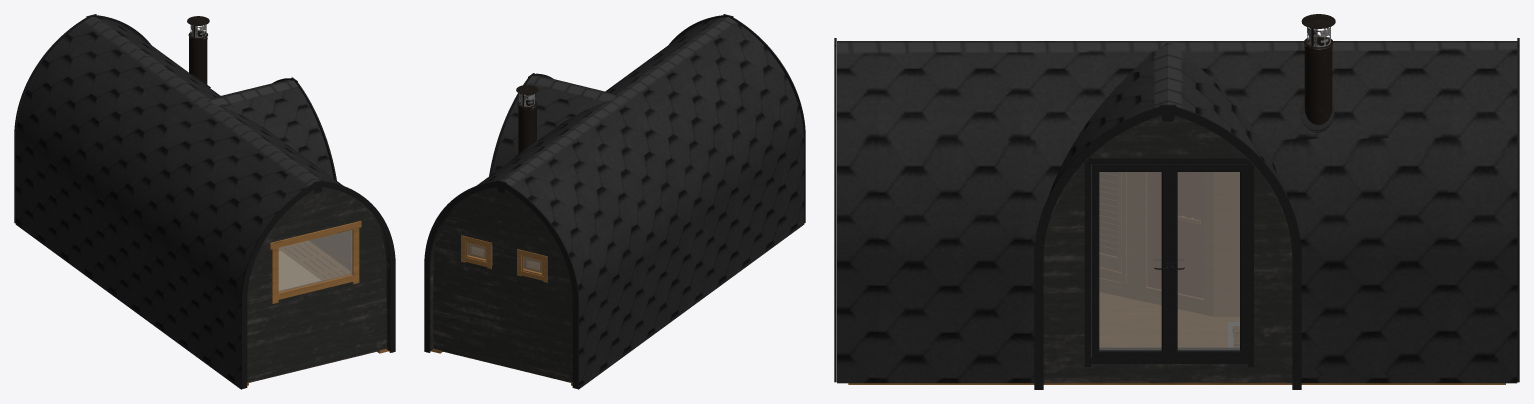
3 renders of one model, left to right at view 1: azimuth 30°, elevation 25°; view 2: azimuth 150°, elevation 25°; view 3: azimuth 270°, elevation 25°, orthographic. The views are drawn at different scales.
Parts seen in each view (by area): view 1: banya_new_ready, Box 1; view 2: banya_new_ready, Box 2; view 3: banya_new_ready, Box.
Boxes of the visible parts, <box> form: banya_new_ready: <box>14,14,395,389</box>; Box 1: <box>278,230,352,292</box>; banya_new_ready: <box>424,14,805,389</box>; Box 2: <box>467,243,541,272</box>; banya_new_ready: <box>834,14,1519,389</box>; Box: <box>1099,172,1239,350</box>.
Bounding box in the file's own units: 2 × 2.62 × 4.8.
6 materials, 3 textured.
